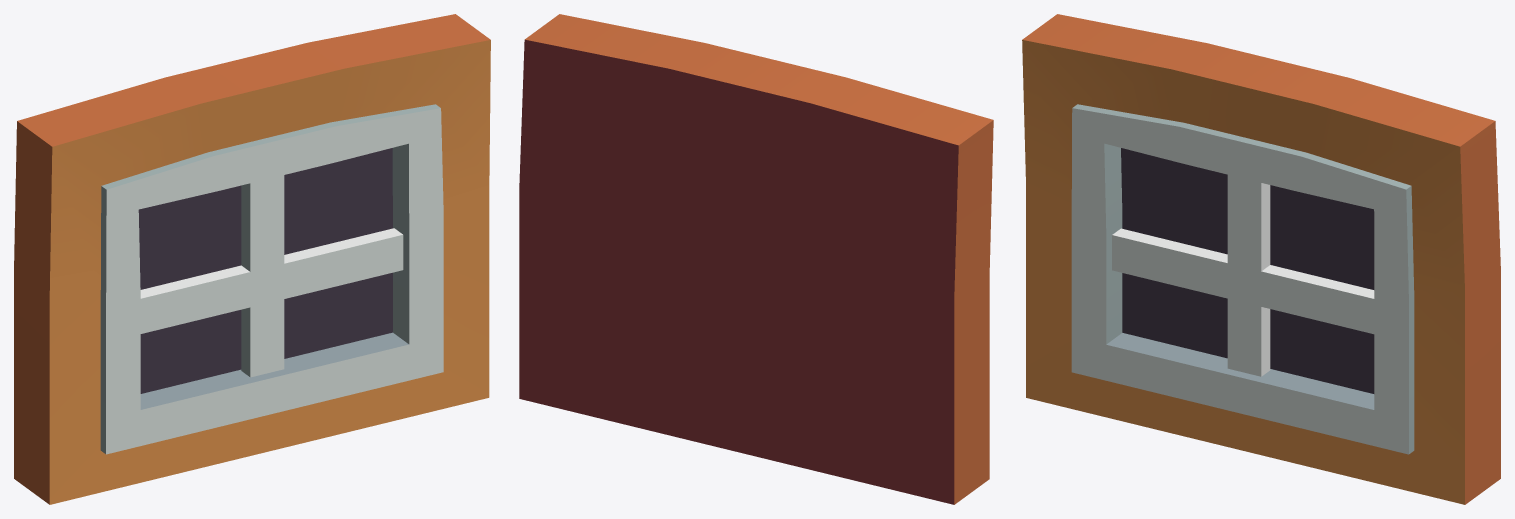
The model's file is Window02_Orange_White.glb.
3 renders of one model, left to right at view 1: azimuth 30°, elevation 25°; view 2: azimuth 150°, elevation 25°; view 3: azimuth 330°, elevation 25°, orthographic.
Parts seen in each view (by area): view 1: Window02_Orange_White; view 2: Window02_Orange_White; view 3: Window02_Orange_White.
Part boxes in pixels (x1,y1,x2,y2): Window02_Orange_White: [14, 14, 490, 504]; Window02_Orange_White: [519, 14, 993, 504]; Window02_Orange_White: [1022, 14, 1500, 504].
Size of the model in its own units: 0.9012 by 0.7186 by 0.1456.
1 material, 1 textured.
